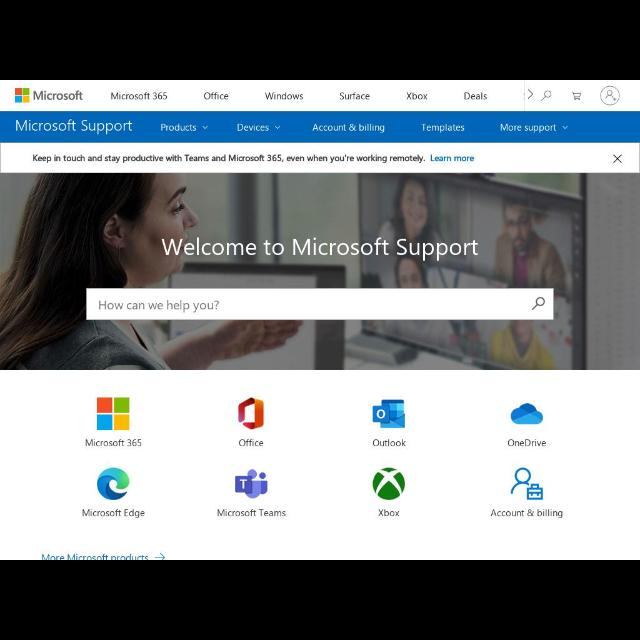backgroundimage: (1, 174, 640, 370)
icon: (601, 86, 619, 104), (540, 88, 552, 104), (532, 297, 544, 311), (612, 153, 624, 165), (572, 91, 582, 101), (526, 88, 534, 100), (202, 125, 208, 129), (276, 124, 280, 130), (564, 124, 568, 130)
iframe: (2, 144, 640, 172)
image: (94, 394, 130, 434), (234, 393, 268, 435), (508, 466, 542, 502), (372, 396, 408, 428), (96, 464, 128, 500), (14, 88, 84, 104), (369, 469, 406, 499), (232, 469, 272, 496), (509, 400, 545, 426)
input: (86, 288, 554, 320)
spinner: (160, 122, 210, 136), (500, 122, 570, 132), (238, 124, 280, 134)
text: (158, 238, 482, 260), (32, 156, 478, 162), (95, 298, 221, 312), (15, 120, 134, 134), (218, 506, 288, 520), (312, 124, 384, 134), (110, 90, 168, 102), (492, 511, 566, 519), (80, 511, 144, 519), (264, 90, 306, 102), (82, 440, 142, 448), (338, 90, 372, 104), (404, 88, 430, 104), (372, 438, 410, 448), (421, 123, 465, 131), (162, 124, 196, 134), (501, 124, 557, 130), (238, 123, 270, 133), (508, 439, 550, 446), (240, 438, 264, 449), (204, 92, 230, 102), (462, 93, 491, 101), (378, 509, 400, 517)
toolbar: (3, 110, 639, 142), (2, 80, 640, 110)
